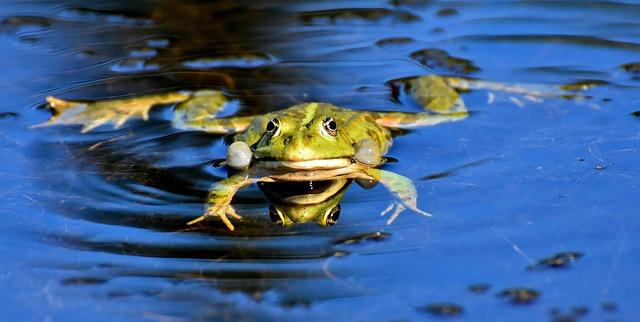Non_Gorille: (44, 43, 511, 275)
